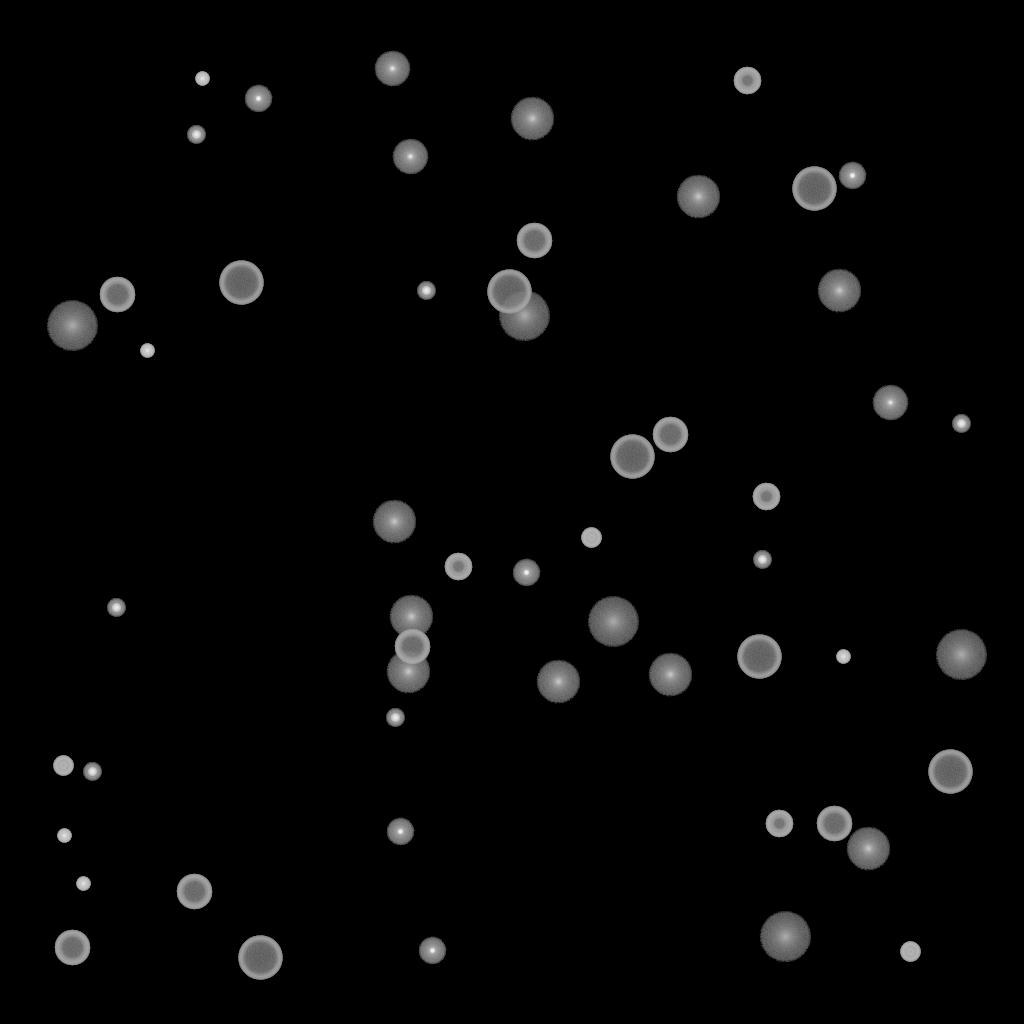depth:-10: (418, 937, 446, 965), (512, 559, 540, 587), (838, 162, 866, 190), (244, 85, 272, 113), (386, 818, 414, 846)
depth:-20: (187, 126, 205, 144), (386, 709, 404, 727), (107, 599, 125, 617), (417, 282, 435, 300), (753, 551, 771, 569), (952, 415, 970, 433), (83, 763, 101, 781)
depth:-30: (195, 72, 209, 86), (57, 829, 71, 843), (836, 650, 850, 664), (76, 877, 90, 891), (140, 344, 154, 358)
depth:-40: (900, 942, 920, 962), (53, 756, 73, 776), (581, 528, 601, 548)
depth:-50: (765, 810, 793, 838), (444, 553, 472, 581), (733, 67, 761, 95), (752, 483, 780, 511)
depth:-60: (176, 874, 212, 910), (394, 629, 430, 665), (99, 277, 135, 313), (816, 806, 852, 842), (54, 930, 90, 966), (652, 417, 688, 453), (516, 223, 552, 259)
depth:-70: (238, 936, 282, 980), (610, 435, 654, 479), (487, 270, 531, 314), (928, 750, 972, 794), (219, 261, 263, 305), (737, 635, 781, 679), (792, 167, 836, 211)
depth:0: (872, 385, 908, 421), (374, 51, 410, 87), (392, 139, 428, 175)
depth:10: (648, 653, 692, 697), (536, 660, 580, 704), (386, 650, 430, 694), (676, 175, 720, 219), (817, 269, 861, 313), (846, 827, 890, 871), (389, 595, 433, 639), (372, 500, 416, 544), (510, 97, 554, 141)
depth:20: (587, 597, 639, 647), (46, 301, 98, 351), (759, 912, 811, 962), (498, 291, 550, 341), (935, 630, 987, 680)
